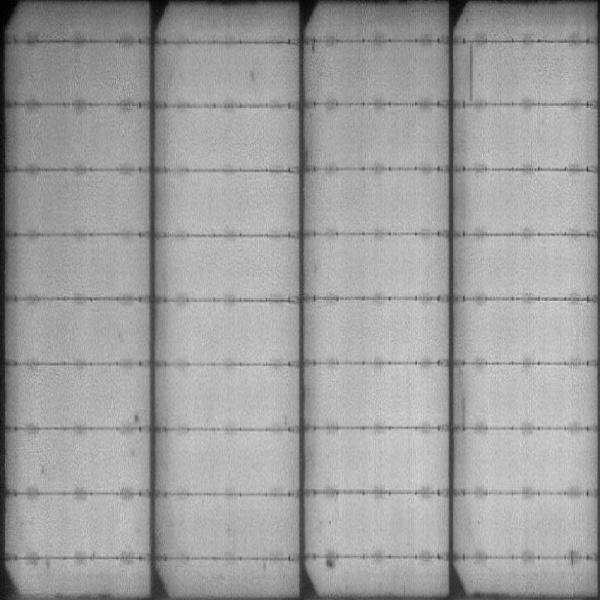scratch: (464, 46, 482, 99)
